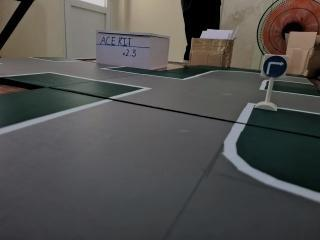right: (258, 45, 295, 83)
